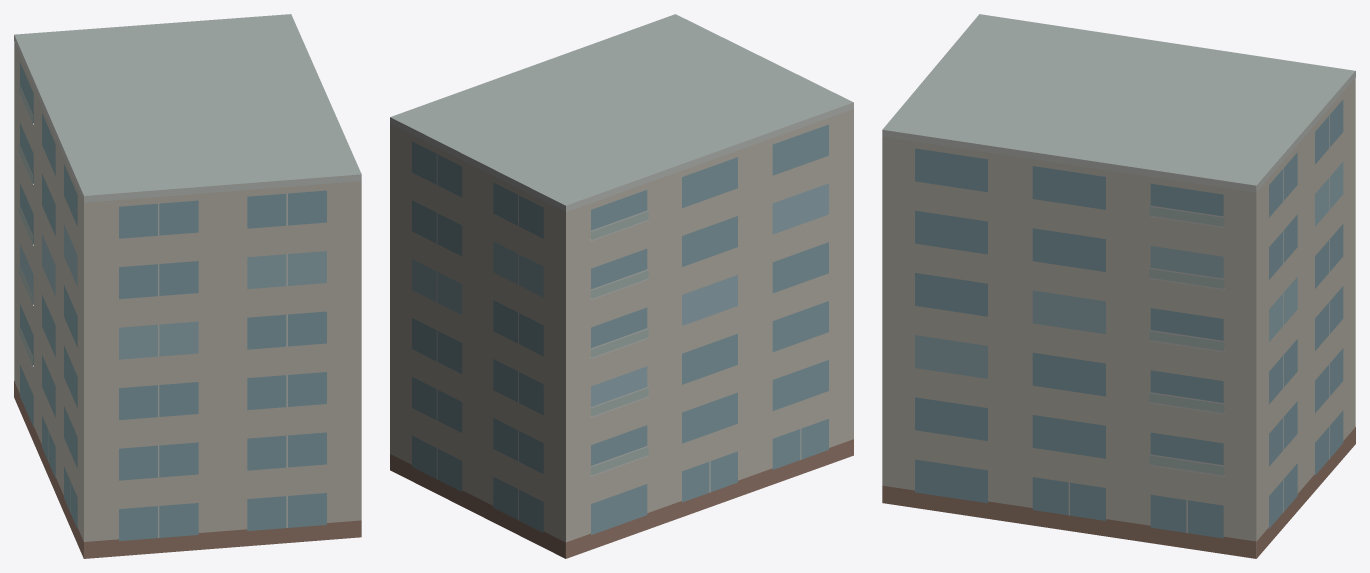
Rendered from survey-upis-32888522.glb.
3 renders of one model, left to right at view 1: azimuth 30°, elevation 25°; view 2: azimuth 150°, elevation 25°; view 3: azimuth 270°, elevation 25°, orthographic. The views are drawn at different scales.
Parts seen in each view (by area): view 1: survey-upis-32888522.tmp; view 2: survey-upis-32888522.tmp; view 3: survey-upis-32888522.tmp.
Part boxes in pixels (x1,y1,x2,y2): survey-upis-32888522.tmp: [14, 14, 361, 558]; survey-upis-32888522.tmp: [390, 14, 853, 558]; survey-upis-32888522.tmp: [882, 14, 1355, 558].
Size of the model in its own units: 13.13 by 13.3 by 15.3.
